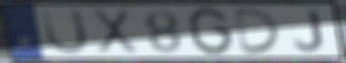8: (142, 7, 185, 56)
D: (232, 7, 285, 55)
G: (187, 6, 235, 57)
J: (292, 9, 327, 52)
U: (39, 8, 90, 56)
X: (89, 8, 141, 55)
